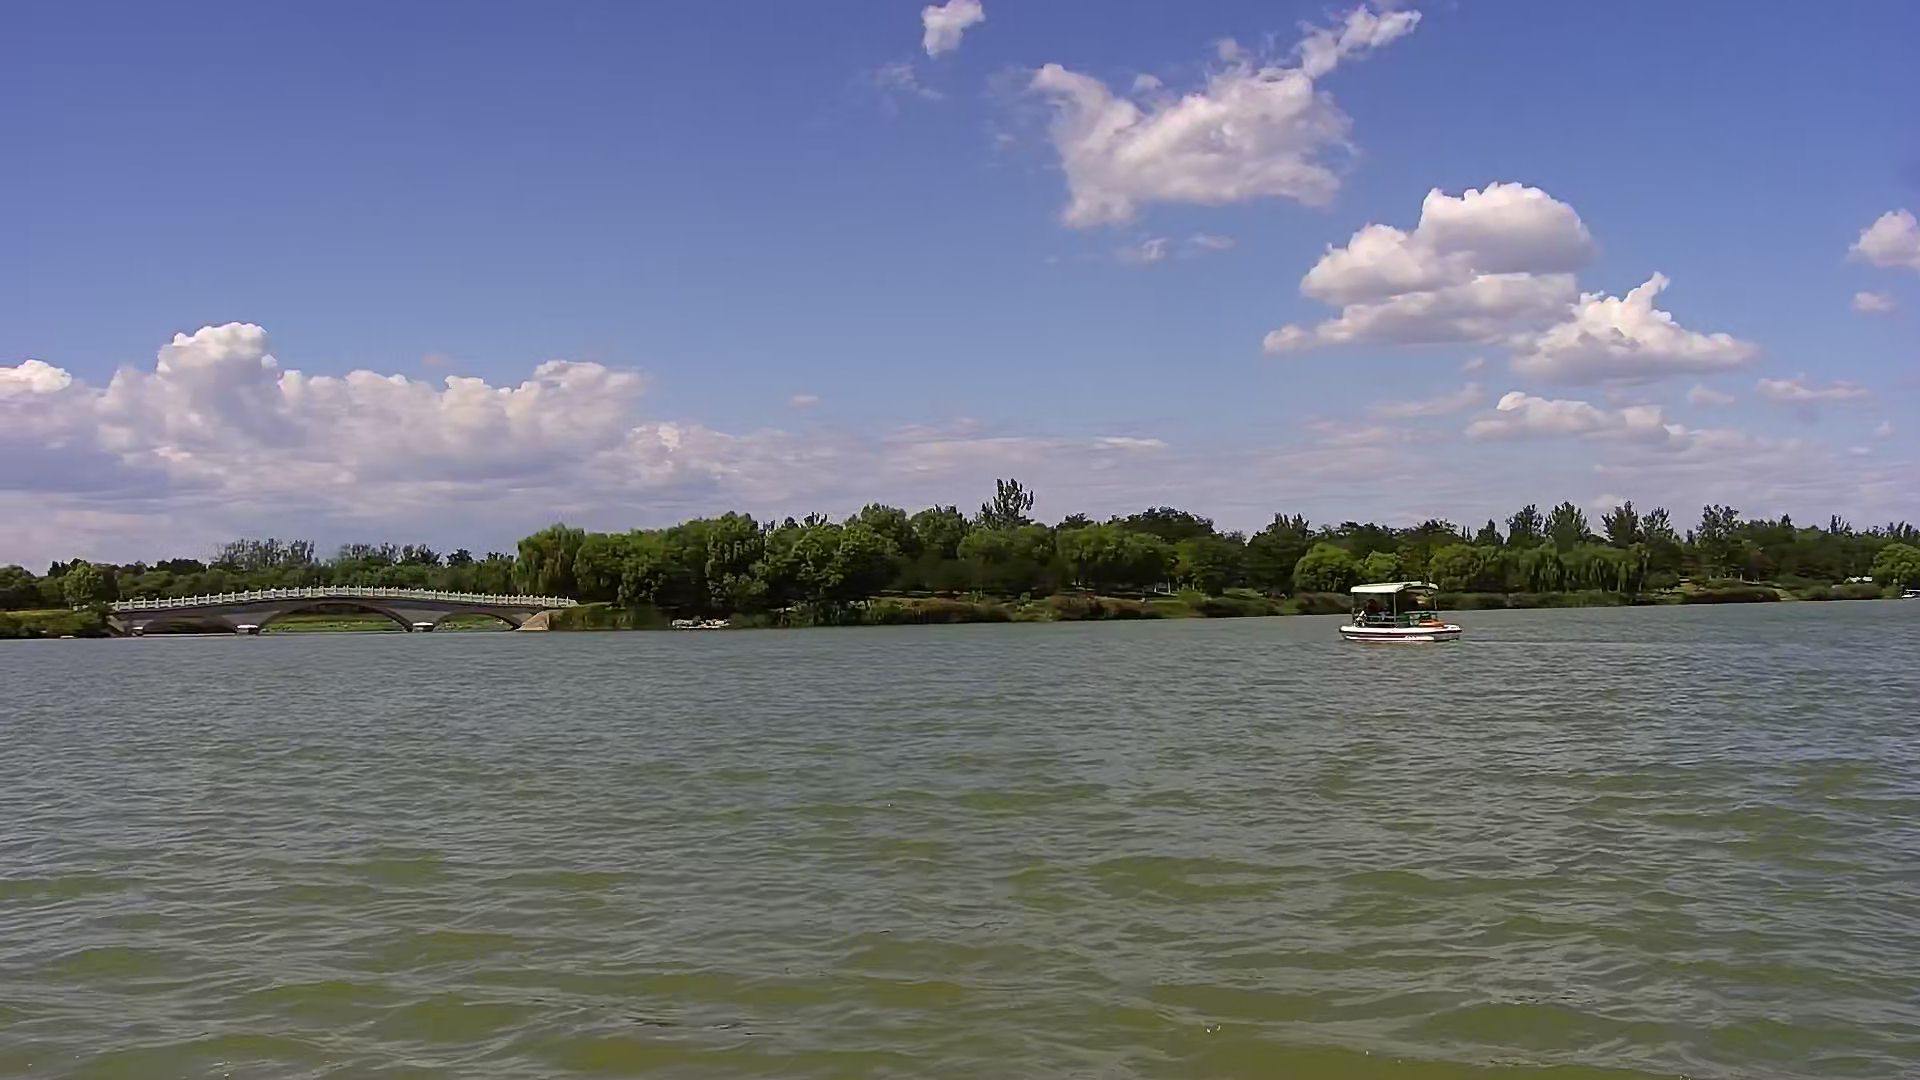boat: (1338, 572, 1460, 647)
bridge: (115, 587, 549, 632)
